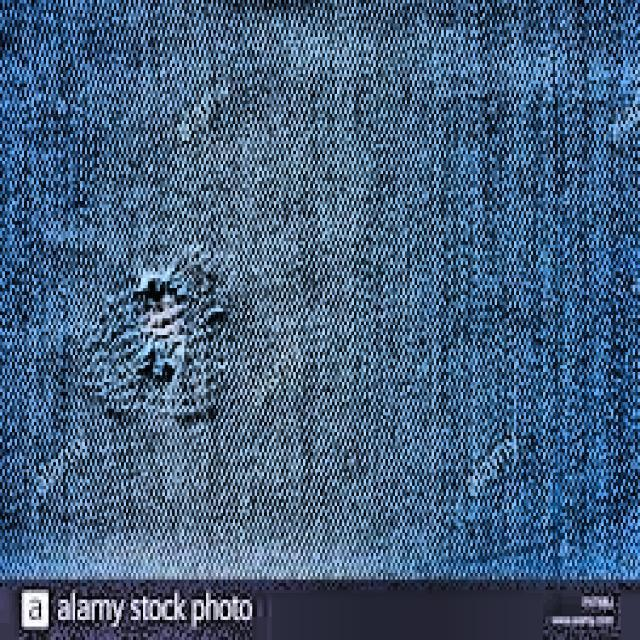cut: (65, 220, 241, 442)
